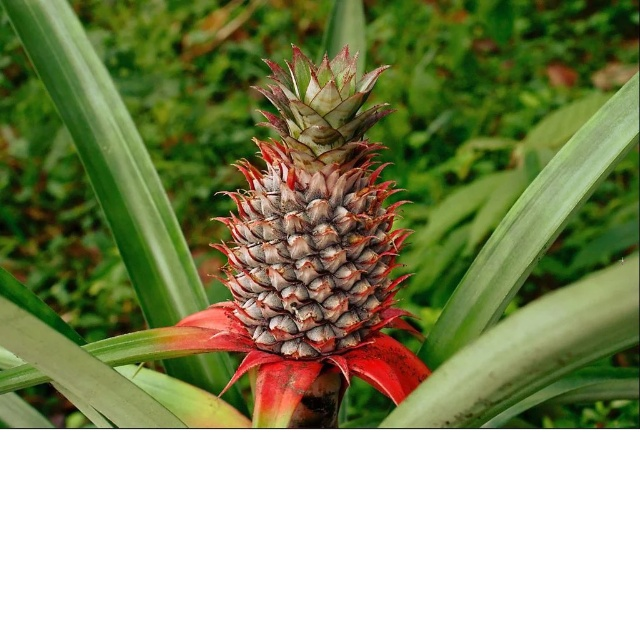thom: (214, 99, 409, 373)
